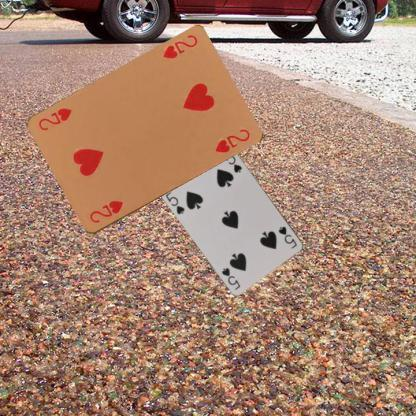2h: (159, 32, 199, 61), (87, 198, 126, 224)
5s: (163, 188, 186, 216), (276, 224, 298, 250)
